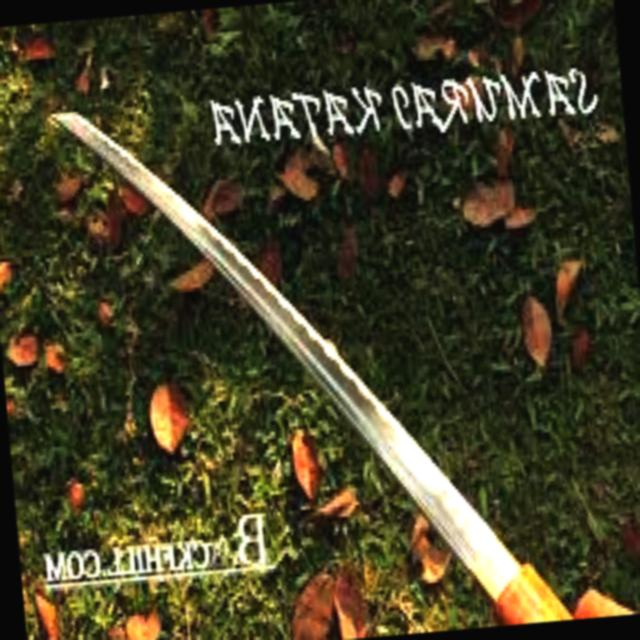long sword: (49, 66, 579, 640)
